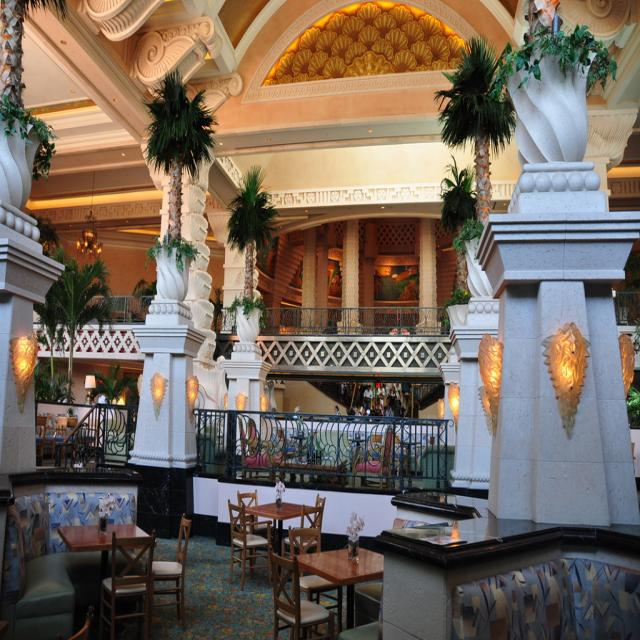chair: (1, 494, 77, 637), (99, 527, 157, 638), (268, 544, 332, 637), (151, 512, 192, 630), (227, 497, 270, 587), (285, 494, 327, 556)
desk: (354, 485, 602, 633)
